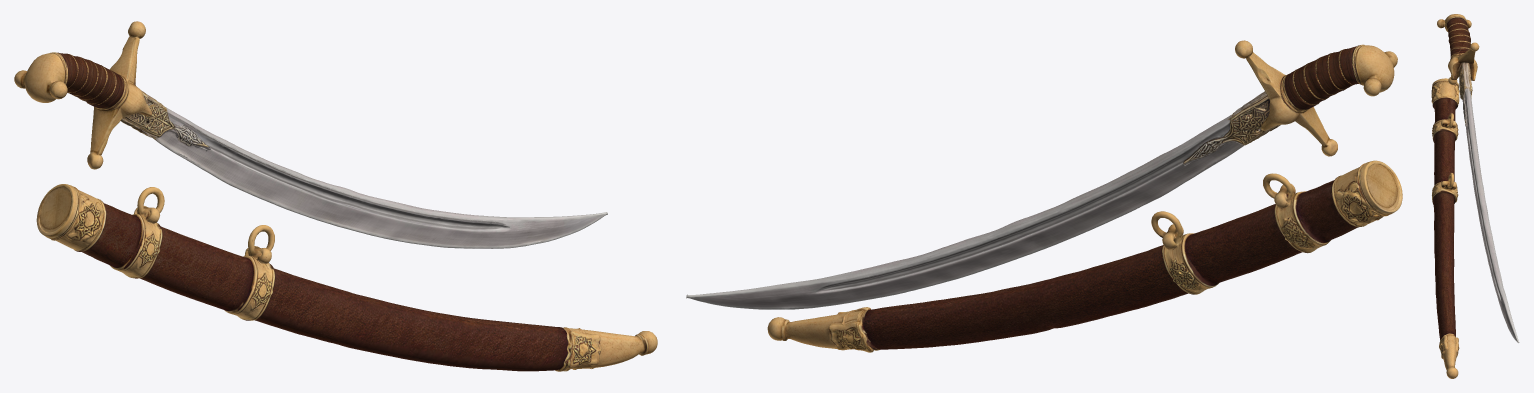
The model's file is Osmanlı pala kılıcı.glb.
3 views of the same model, side by side, from view 1: azimuth 30°, elevation 25°; view 2: azimuth 150°, elevation 25°; view 3: azimuth 270°, elevation 25° (orthographic). The views are drawn at different scales.
Visible parts, largest first — view 1: tripo_node_fe5ef9e9-b07b-4df7-abc6-b4f7339dd231; view 2: tripo_node_fe5ef9e9-b07b-4df7-abc6-b4f7339dd231; view 3: tripo_node_fe5ef9e9-b07b-4df7-abc6-b4f7339dd231.
Part boxes in pixels (<box>): tripo_node_fe5ef9e9-b07b-4df7-abc6-b4f7339dd231: <box>14,21,657,371</box>; tripo_node_fe5ef9e9-b07b-4df7-abc6-b4f7339dd231: <box>686,40,1402,352</box>; tripo_node_fe5ef9e9-b07b-4df7-abc6-b4f7339dd231: <box>1431,14,1519,378</box>.
Bounding box in the file's own units: 0.9832 × 0.6422 × 0.2333.
1 material, 1 textured.
